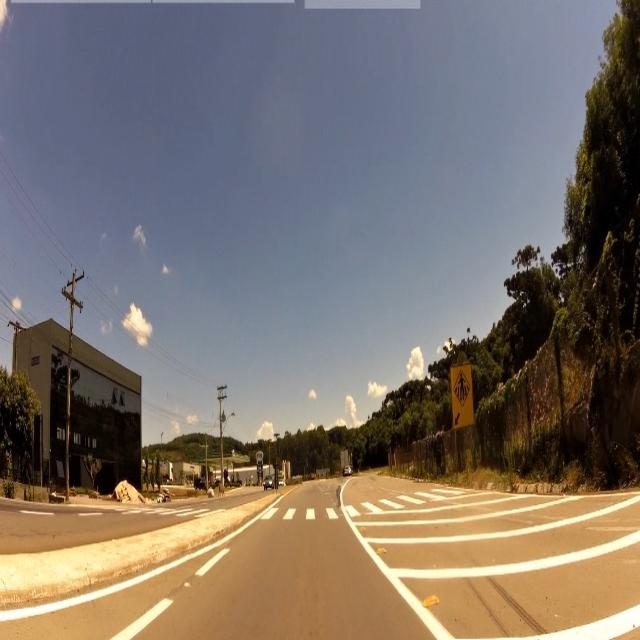A-32b: (452, 366, 472, 408)
